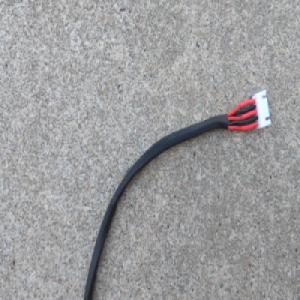Wire: (81, 88, 273, 300)
